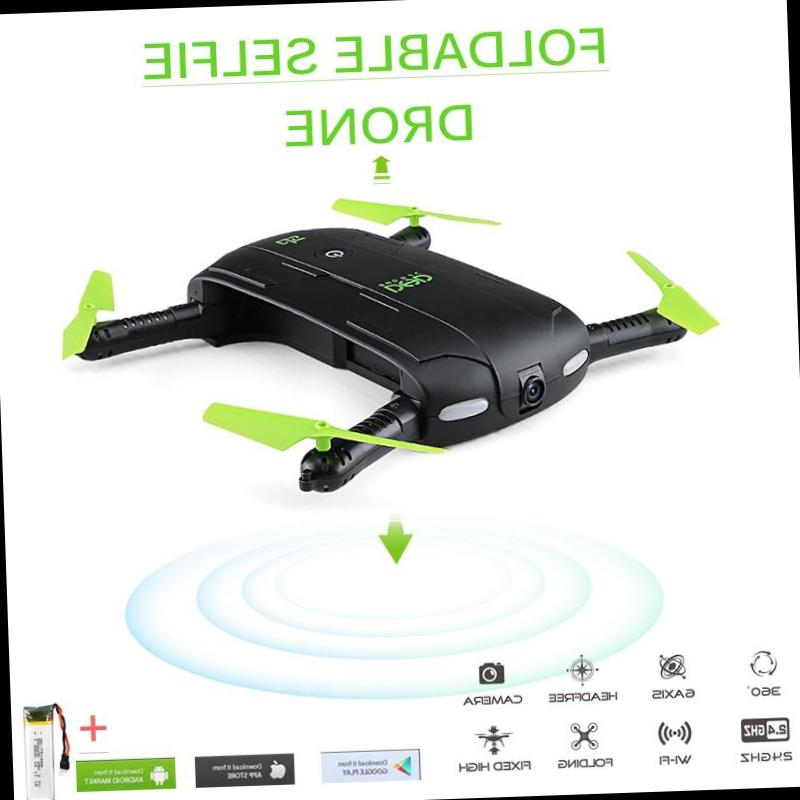drone: (19, 164, 715, 515)
